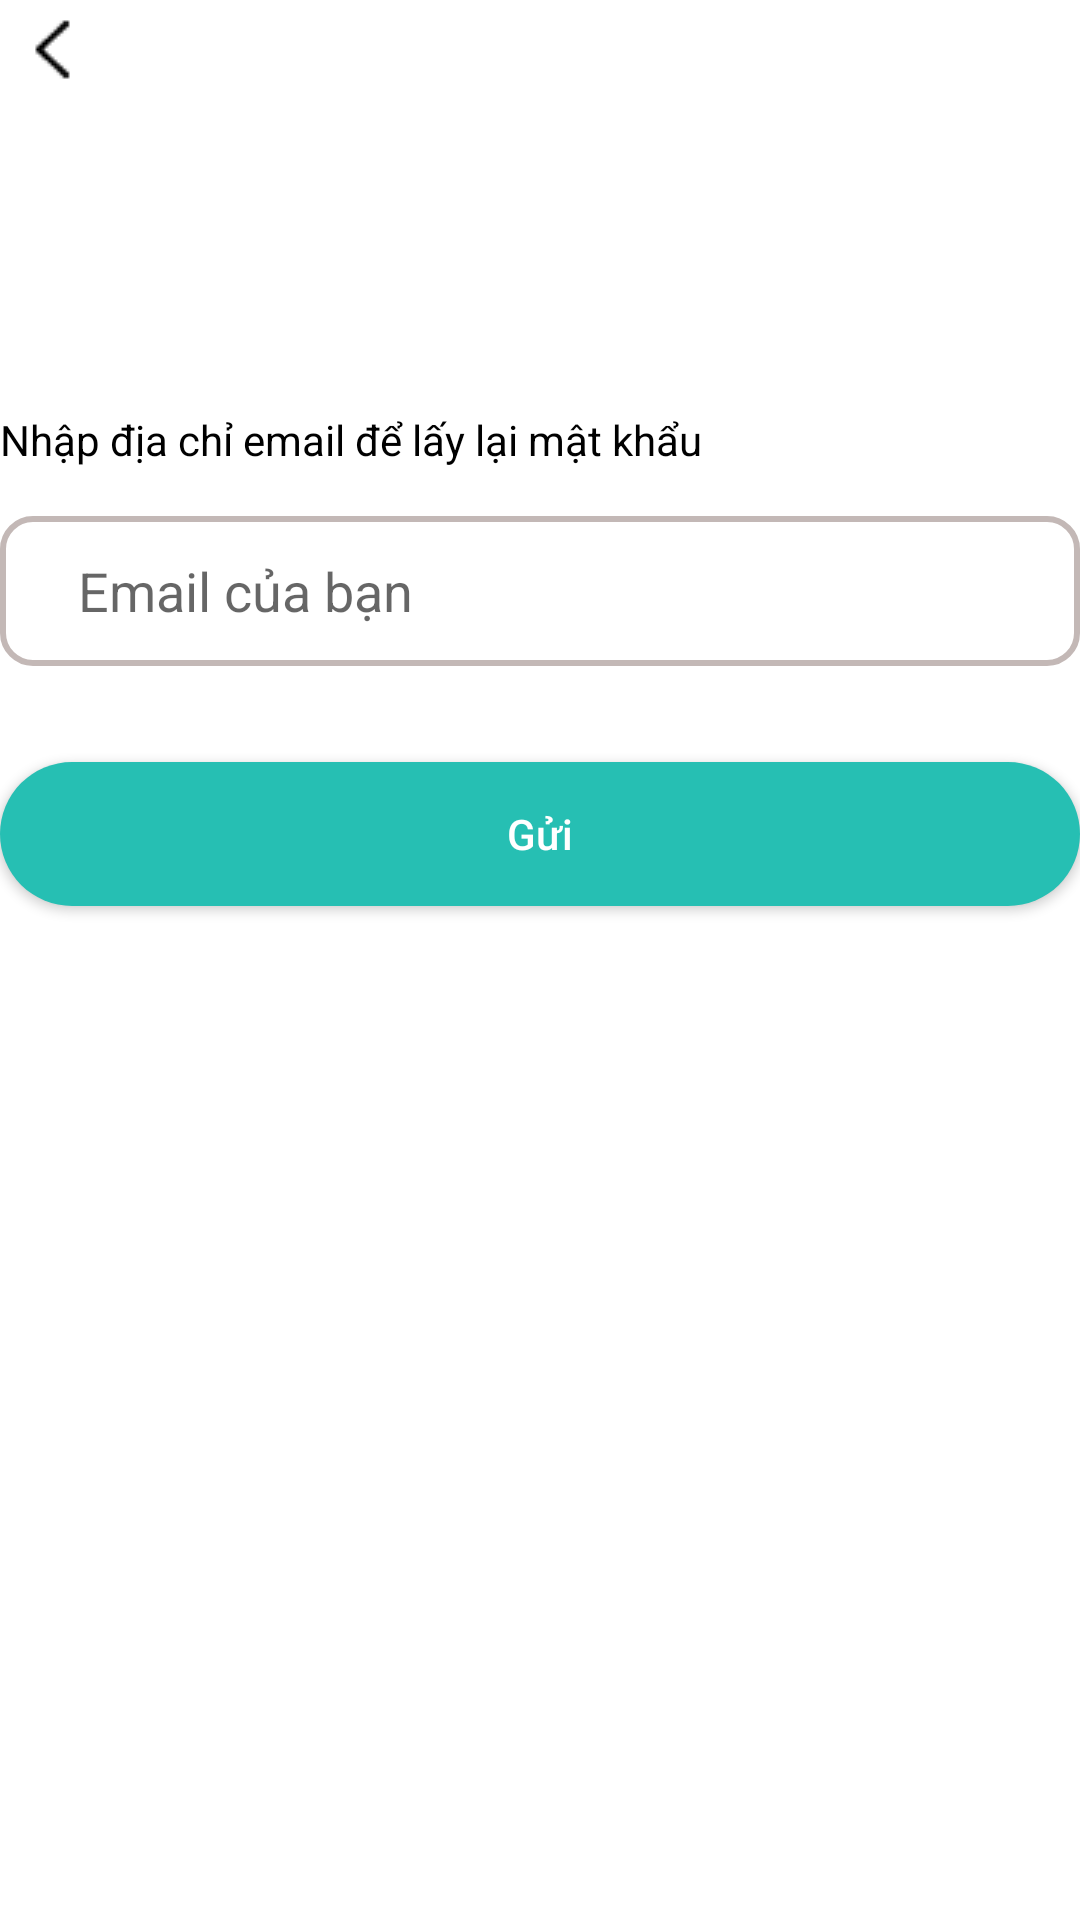

Icon bounding boxes for this 1080x1920 phone screenshot, format Rect(x1, y1, x2, y2):
back: Rect(35, 20, 70, 79)
